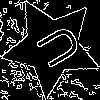U: (26, 21, 84, 76)
